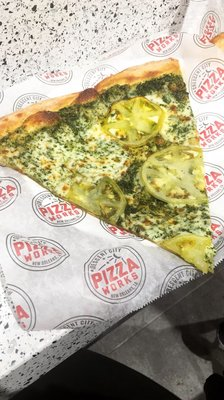pizza: (188, 58, 223, 151)
